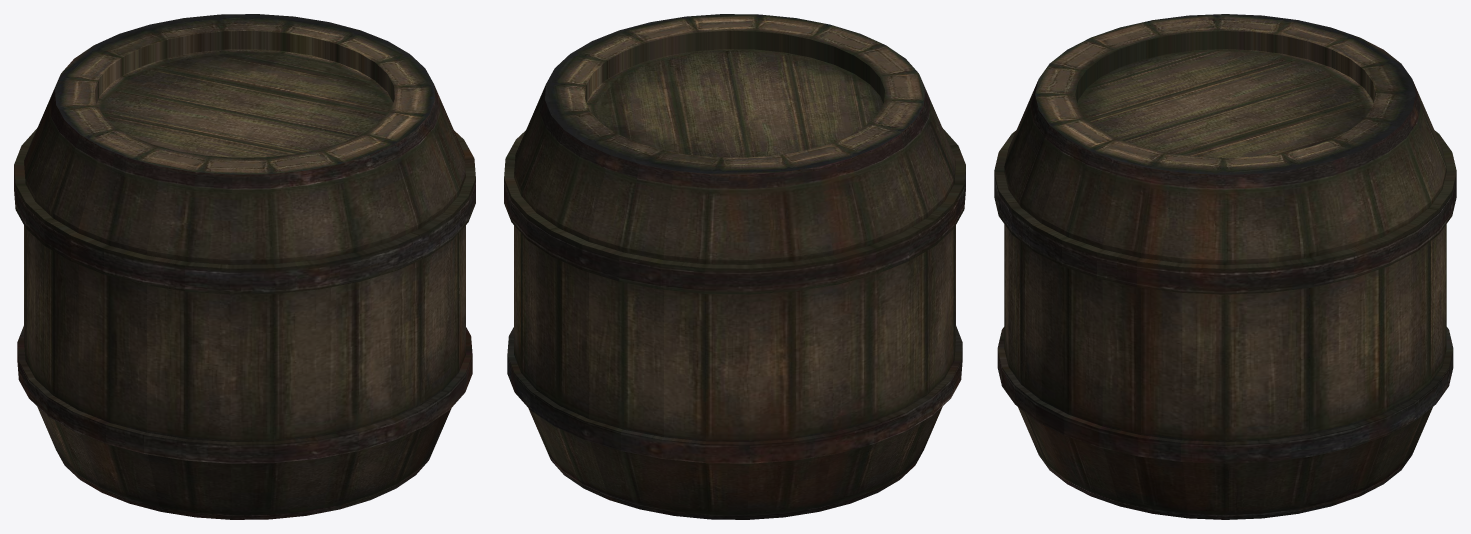
The model's file is SIGMA.fbx.
3 views of the same model, side by side, from view 1: azimuth 30°, elevation 25°; view 2: azimuth 150°, elevation 25°; view 3: azimuth 270°, elevation 25° (orthographic).
Parts seen in each view (by area): view 1: Cylinder; view 2: Cylinder; view 3: Cylinder.
Boxes of the visible parts, x1,y1,x2,y2 form: Cylinder: (14, 14, 475, 519); Cylinder: (504, 14, 965, 519); Cylinder: (994, 14, 1456, 519).
Bounding box in the file's own units: 290 × 239 × 290.
Materials: 1 (1 with a texture image).
